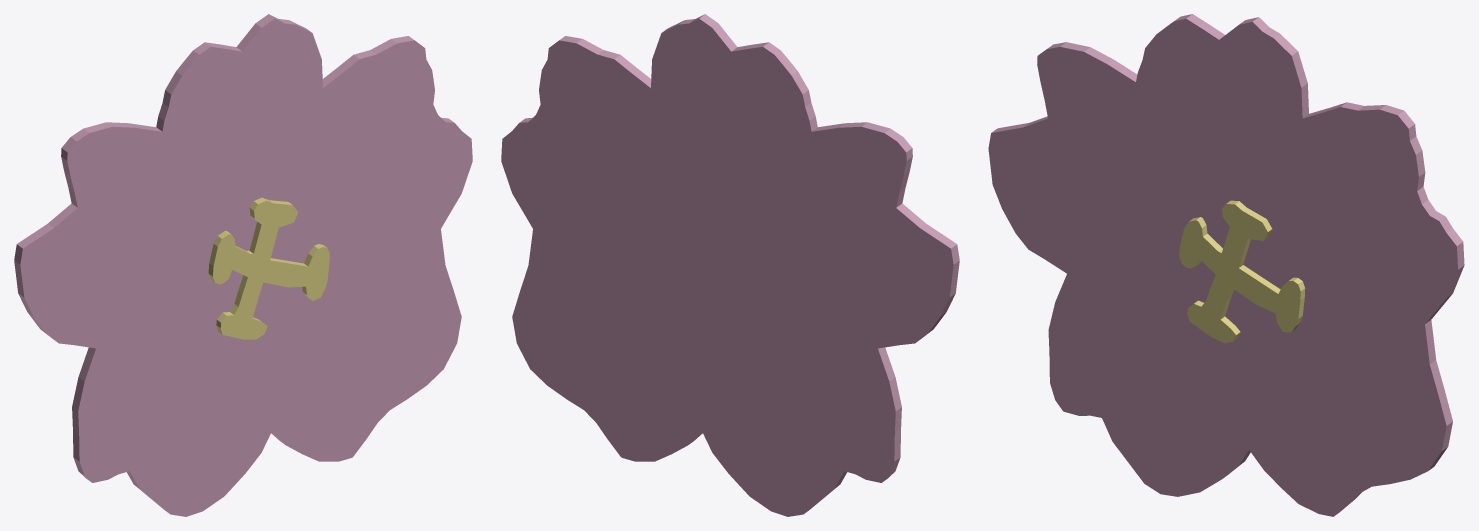
Rendered from Sakura_2.fbx.
3 views of the same model, side by side, from view 1: azimuth 30°, elevation 25°; view 2: azimuth 150°, elevation 25°; view 3: azimuth 330°, elevation 25° (orthographic). The views are drawn at different scales.
Parts seen in each view (by area): view 1: pPlane9, pPlane8; view 2: pPlane9; view 3: pPlane9, pPlane8.
Boxes of the visible parts, x1,y1,x2,y2 form: pPlane9: (14, 14, 472, 516); pPlane8: (208, 197, 329, 339); pPlane9: (501, 14, 959, 516); pPlane9: (988, 14, 1464, 516); pPlane8: (1179, 200, 1305, 343).
Size of the model in its own units: 0.8377 by 0.8436 by 0.0338.
